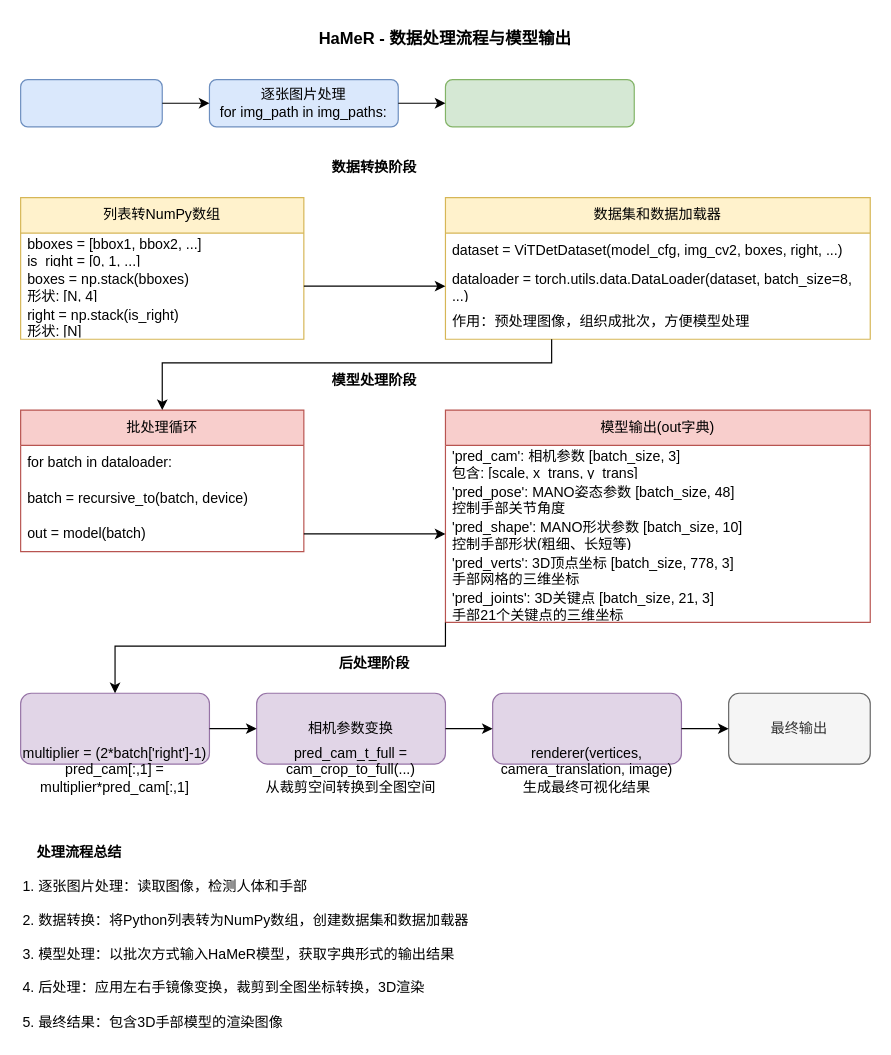
Image size: 891x1055. Some labels were removed from this diagram. Each missing label, with the centre of its shape:
"3D渲染与可视化" goes at point (586, 728).
"图片列表 img_paths" goes at point (90, 102).
"左右手镜像处理" goes at point (114, 728).
"检测左右手 添加到bboxes和is_right列表" goes at point (539, 102).
